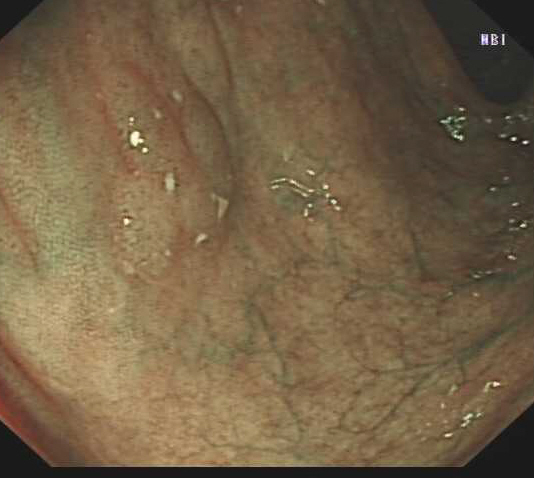adenoma: (106, 94, 234, 284)
